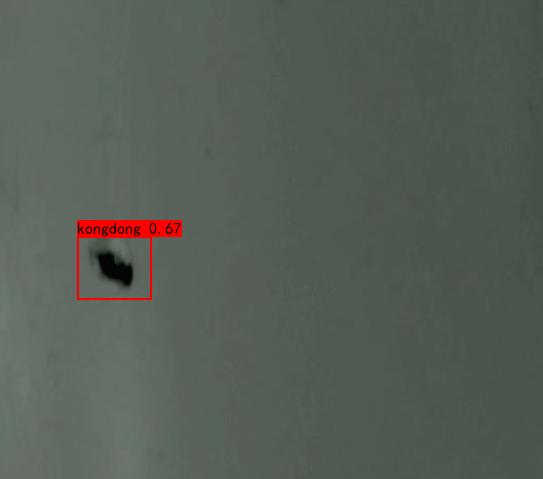kongdong: (89, 233, 140, 296)
